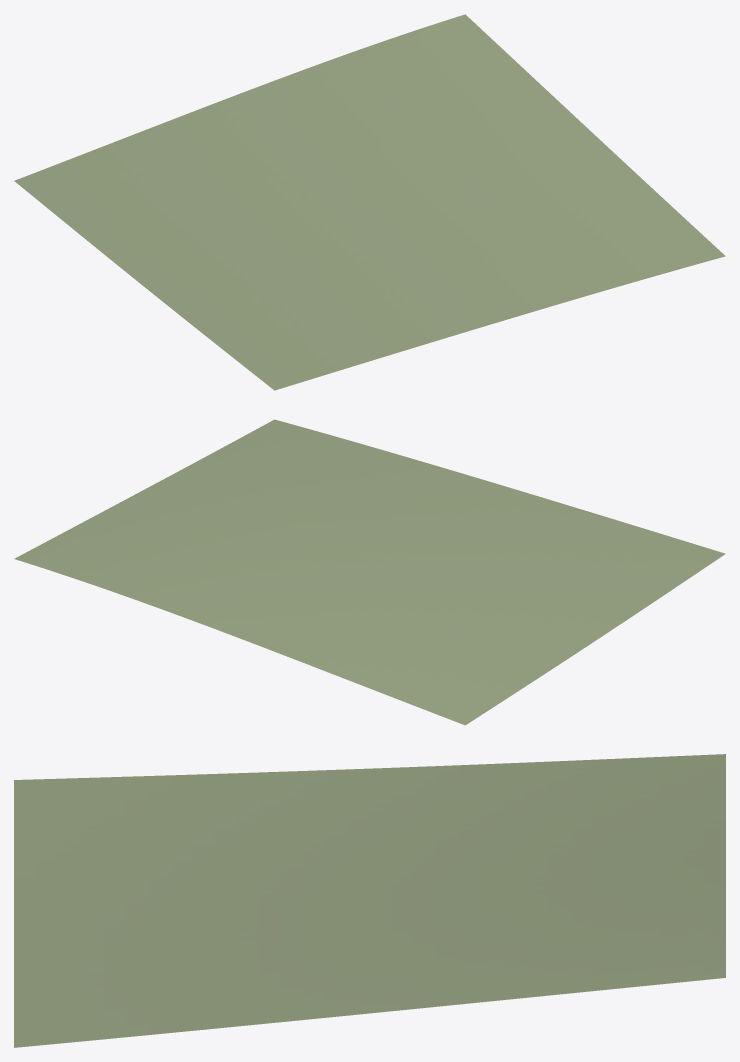
File: expanse-16-19.glb
The picture shows the model from 3 angles, top to bottom: view 1: azimuth 30°, elevation 25°; view 2: azimuth 150°, elevation 25°; view 3: azimuth 270°, elevation 25°; orthographic projection. The views are drawn at different scales.
Parts seen in each view (by area): view 1: expanse-16-19; view 2: expanse-16-19; view 3: expanse-16-19.
Boxes of the visible parts, x1,y1,x2,y2 form: expanse-16-19: (14, 14, 725, 390); expanse-16-19: (14, 419, 725, 725); expanse-16-19: (14, 754, 725, 1047).
Size of the model in its own units: 256 by 40.88 by 256.
